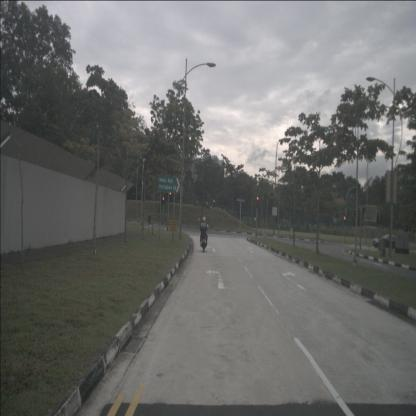vehicle-car: (373, 234, 398, 250)
vehicle-motorcycle: (199, 217, 208, 252)
